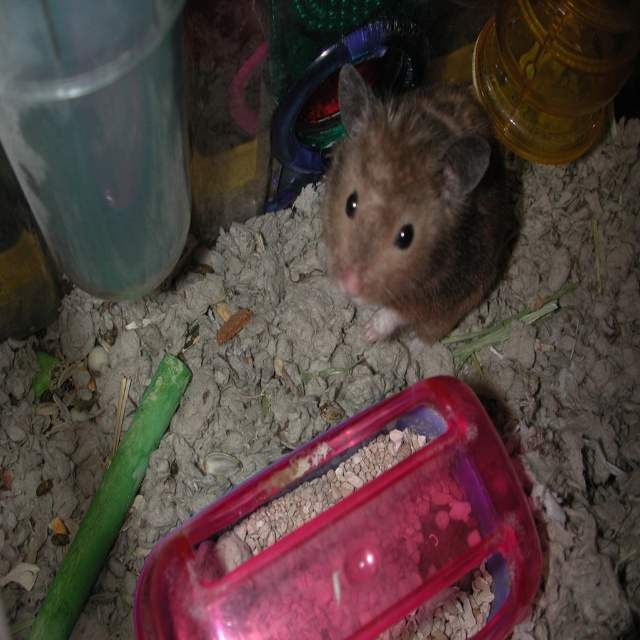Hamster: (322, 67, 512, 347)
